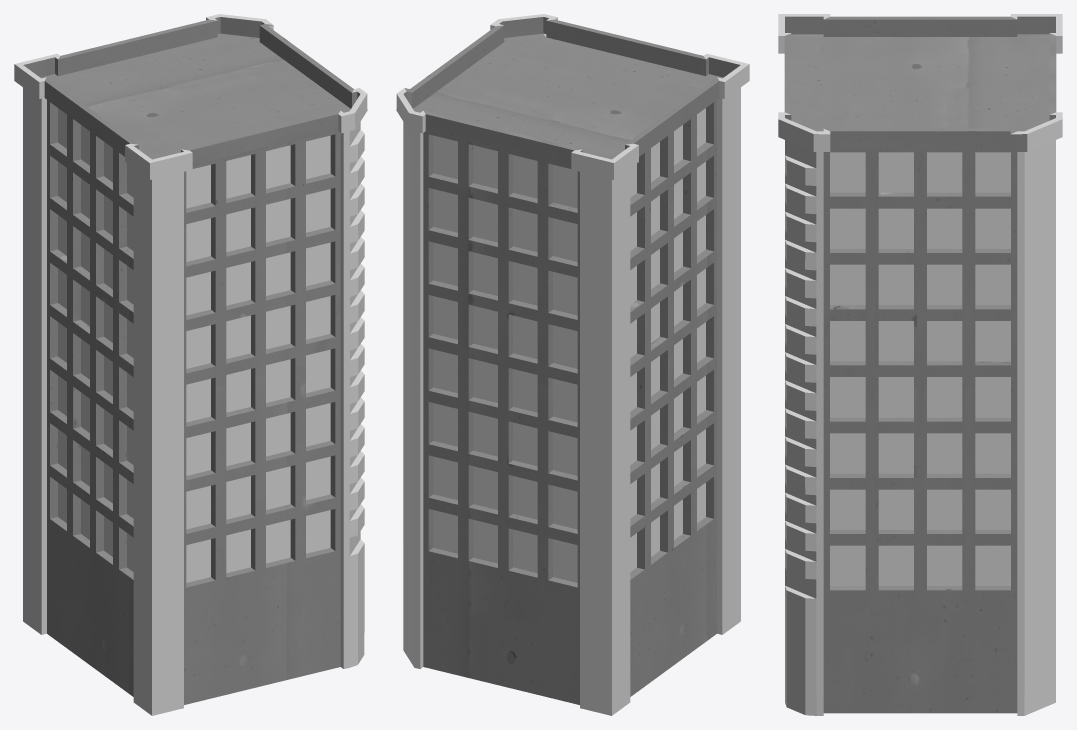
The model's file is tempbuilding.fbx.
3 renders of one model, left to right at view 1: azimuth 30°, elevation 25°; view 2: azimuth 150°, elevation 25°; view 3: azimuth 270°, elevation 25°, orthographic. The views are drawn at different scales.
Parts seen in each view (by area): view 1: Plane; view 2: Plane; view 3: Plane.
Part boxes in pixels (x1,y1,x2,y2): Plane: (14, 14, 367, 715); Plane: (396, 14, 749, 715); Plane: (778, 14, 1062, 715).
Bounding box in the file's own units: 441 × 1000 × 441.
